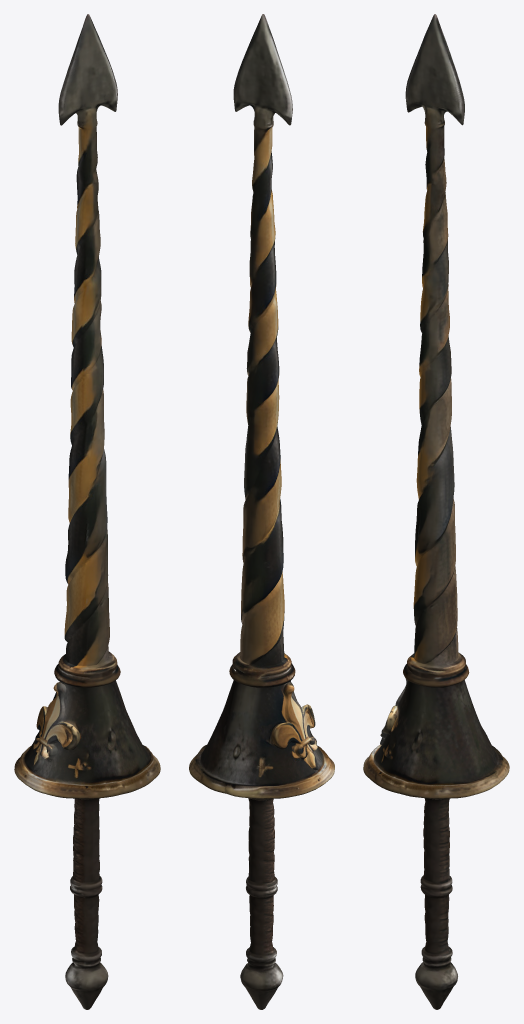
File: gold_jousting_lance.glb
The picture shows the model from 3 angles, left to right: view 1: azimuth 30°, elevation 25°; view 2: azimuth 150°, elevation 25°; view 3: azimuth 330°, elevation 25°; orthographic projection.
Parts seen in each view (by area): view 1: gold_jousting_lance; view 2: gold_jousting_lance; view 3: gold_jousting_lance.
Part boxes in pixels (left/top/right/bottom): gold_jousting_lance: left=14, top=14, right=160, bottom=1009; gold_jousting_lance: left=189, top=14, right=334, bottom=1009; gold_jousting_lance: left=363, top=14, right=509, bottom=1009.
Bounding box in the file's own units: 0.3945 × 3 × 0.3853.
1 material, 1 textured.
